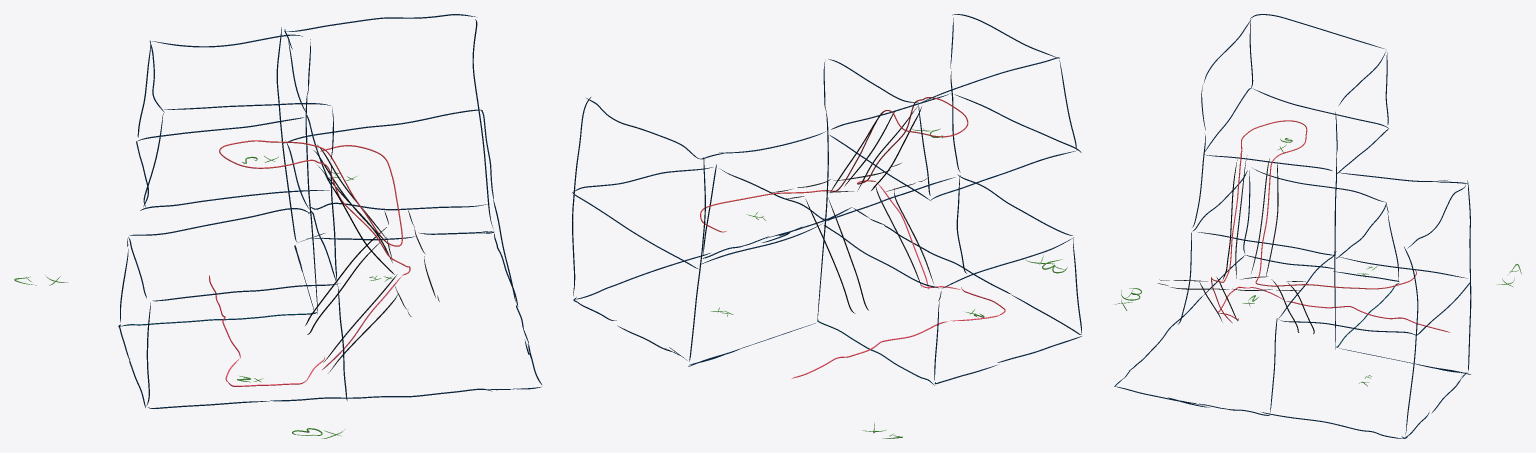
The picture shows the model from 3 angles, left to right: view 1: azimuth 30°, elevation 25°; view 2: azimuth 150°, elevation 25°; view 3: azimuth 270°, elevation 25°; orthographic projection. The views are drawn at different scales.
Parts seen in each view (by area): view 1: s.0136; view 2: s.0136; view 3: s.0136.
Part boxes in pixels (left/top/right/bottom): s.0136: left=219, top=140, right=410, bottom=275; s.0136: left=700, top=97, right=968, bottom=232; s.0136: left=1211, top=120, right=1416, bottom=289.
Size of the model in its own units: 217 by 203 by 140.
